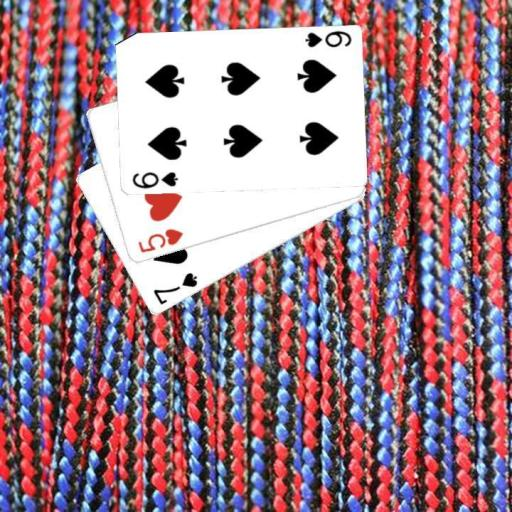card-corner: (150, 270, 199, 307), (134, 226, 184, 255), (129, 169, 179, 191), (302, 28, 352, 50)
